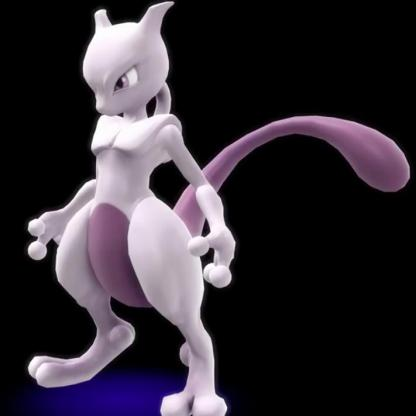Mewtwo: (1, 1, 309, 416)
